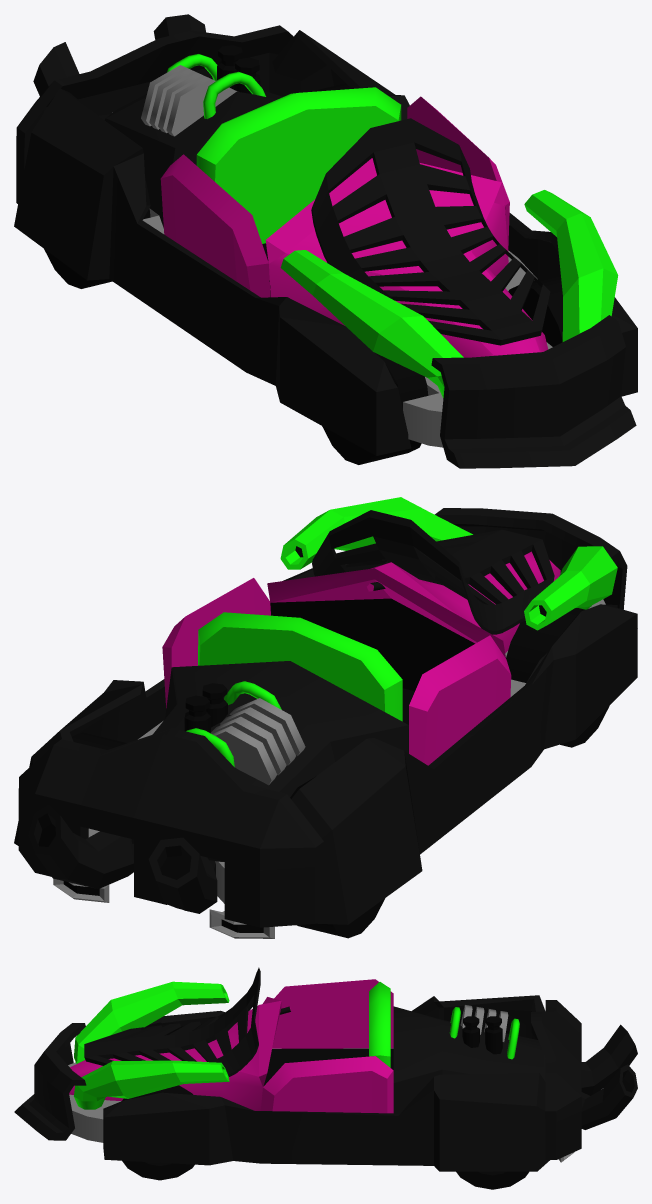
The model's file is car-parsche-sport-green_7.fbx.
3 views of the same model, one above another, from view 1: azimuth 30°, elevation 25°; view 2: azimuth 150°, elevation 25°; view 3: azimuth 270°, elevation 25° (orthographic). The views are drawn at different scales.
Parts seen in each view (by area): view 1: car-parsche-sport-green_7; view 2: car-parsche-sport-green_7; view 3: car-parsche-sport-green_7.
Part boxes in pixels (<box>): car-parsche-sport-green_7: <box>14,14,637,468</box>; car-parsche-sport-green_7: <box>14,497,637,938</box>; car-parsche-sport-green_7: <box>14,967,637,1189</box>.
Bounding box in the file's own units: 0.978 × 2.37 × 0.7079.
